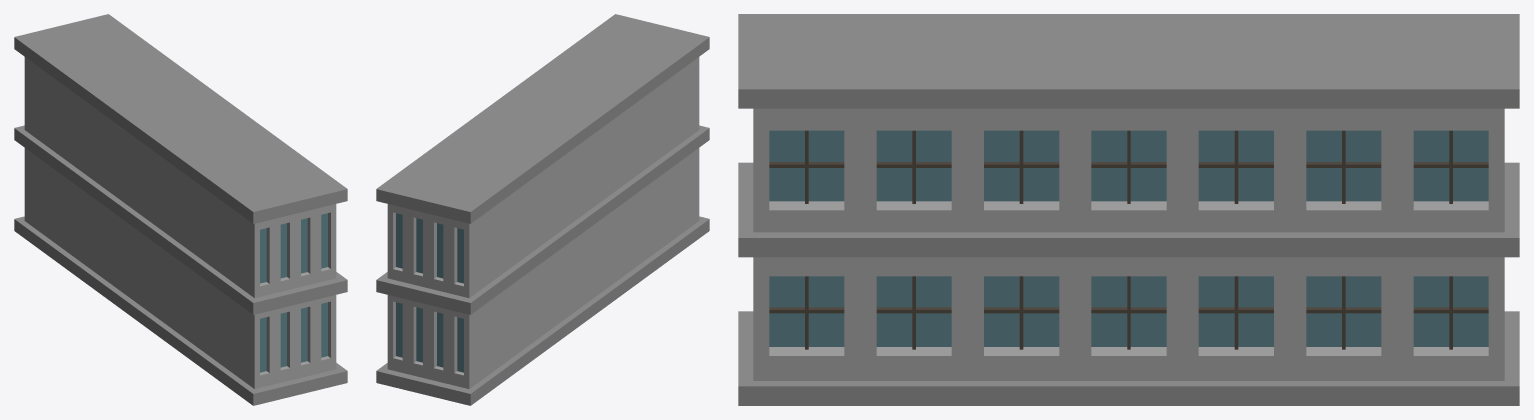
File: Apartment5.fbx
3 renders of one model, left to right at view 1: azimuth 30°, elevation 25°; view 2: azimuth 150°, elevation 25°; view 3: azimuth 270°, elevation 25°, orthographic. The views are drawn at different scales.
Parts seen in each view (by area): view 1: Apartment5; view 2: Apartment5; view 3: Apartment5.
Part boxes in pixels (x1,y1,x2,y2): Apartment5: (14,14,347,405); Apartment5: (376,14,709,405); Apartment5: (738,14,1519,405).
Bounding box in the file's own units: 231 × 453 × 1013.
